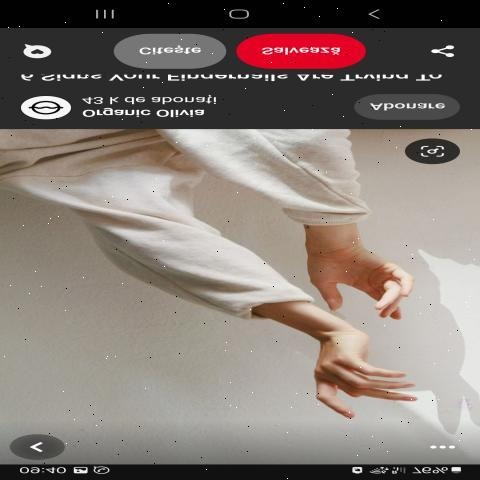Hands: (298, 210, 436, 328), (299, 318, 435, 434)
